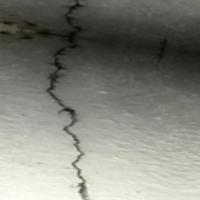crack: (30, 0, 105, 199)
